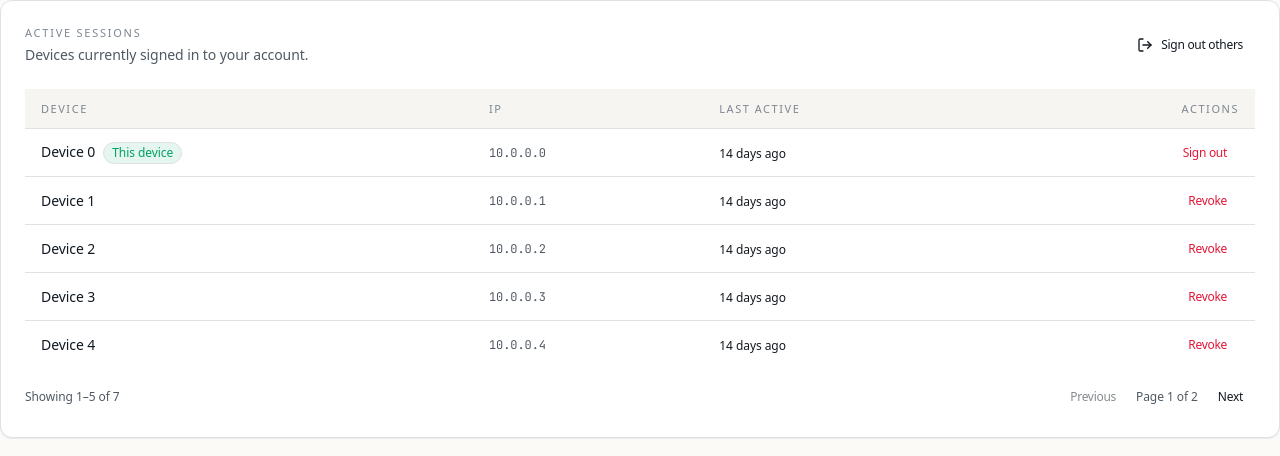
Test: SessionsCard › paginates when there are more sessions than one page
Expected: the text "Device 0" is shown, [41,142,95,161]
Expected: the text "Device 4" is shown, [41,335,95,354]
# Advance to page 2 — the remaining two rows appear, page-1 rows drop out.
Step 1. Click the button "Next" → (1230, 397), box [1206,381,1255,413]
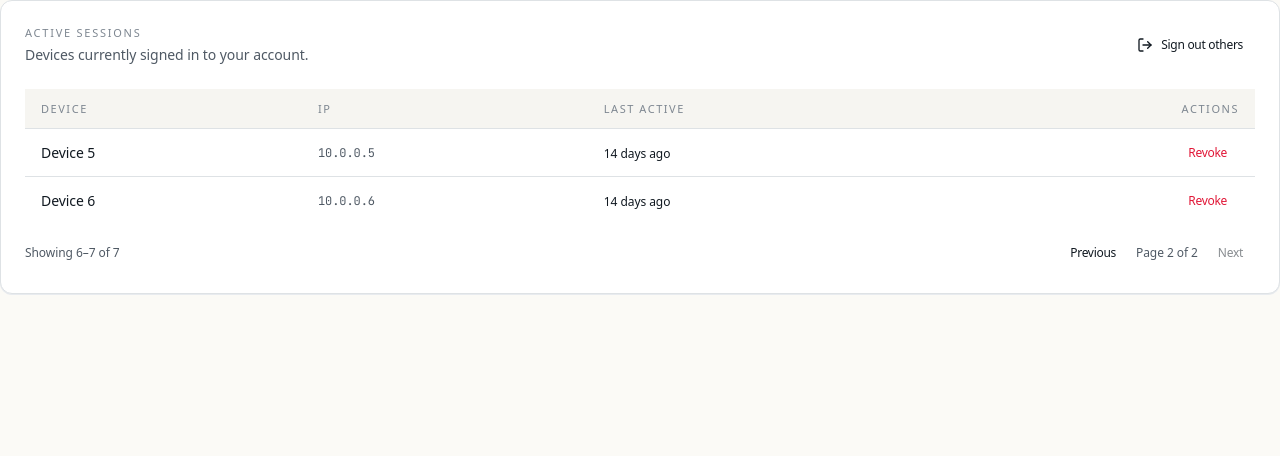
Expected: the text "Device 5" is shown, [41,143,95,162]
Expected: the text "Device 6" is shown, [41,191,95,210]
Expected: the text "Device 0" is gone
